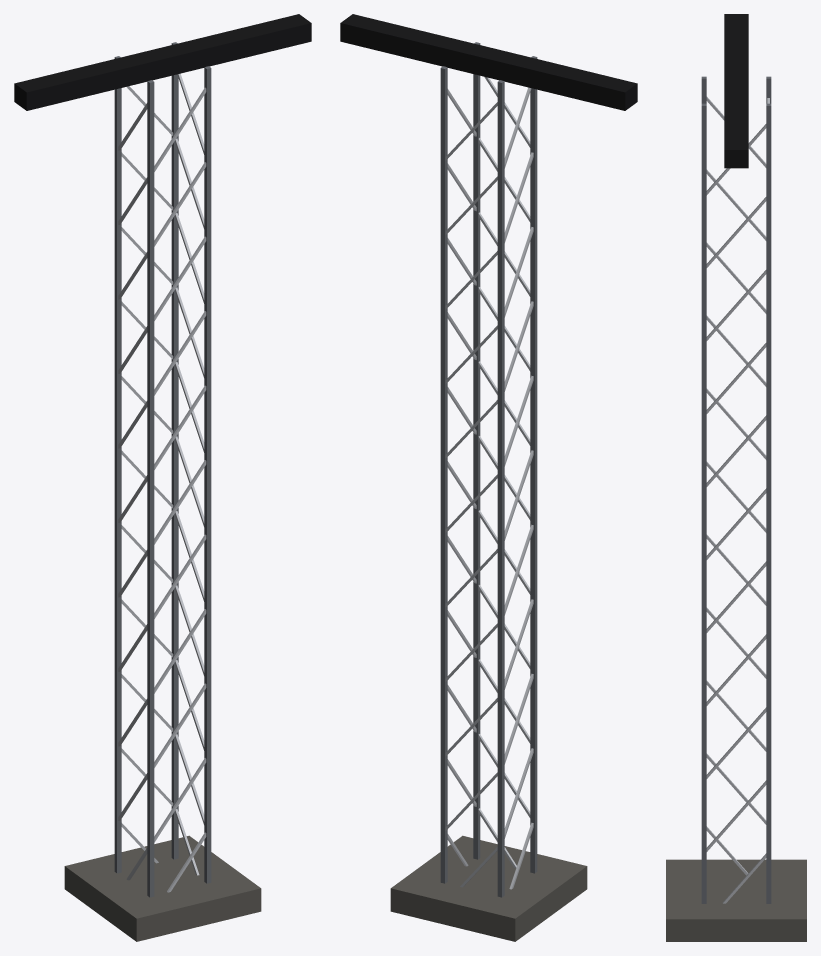
Rendered from LightTower.obj.
The picture shows the model from 3 angles, left to right: view 1: azimuth 30°, elevation 25°; view 2: azimuth 150°, elevation 25°; view 3: azimuth 270°, elevation 25°; orthographic projection. The views are drawn at different scales.
Visible parts, largest first — view 1: LightTower; view 2: LightTower; view 3: LightTower.
Boxes of the visible parts, bbox=[...] form: LightTower: bbox=[14, 14, 311, 941]; LightTower: bbox=[340, 14, 637, 941]; LightTower: bbox=[666, 14, 806, 941].
Size of the model in its own units: 3.2 by 9.11 by 1.4.
1 material, 1 textured.
